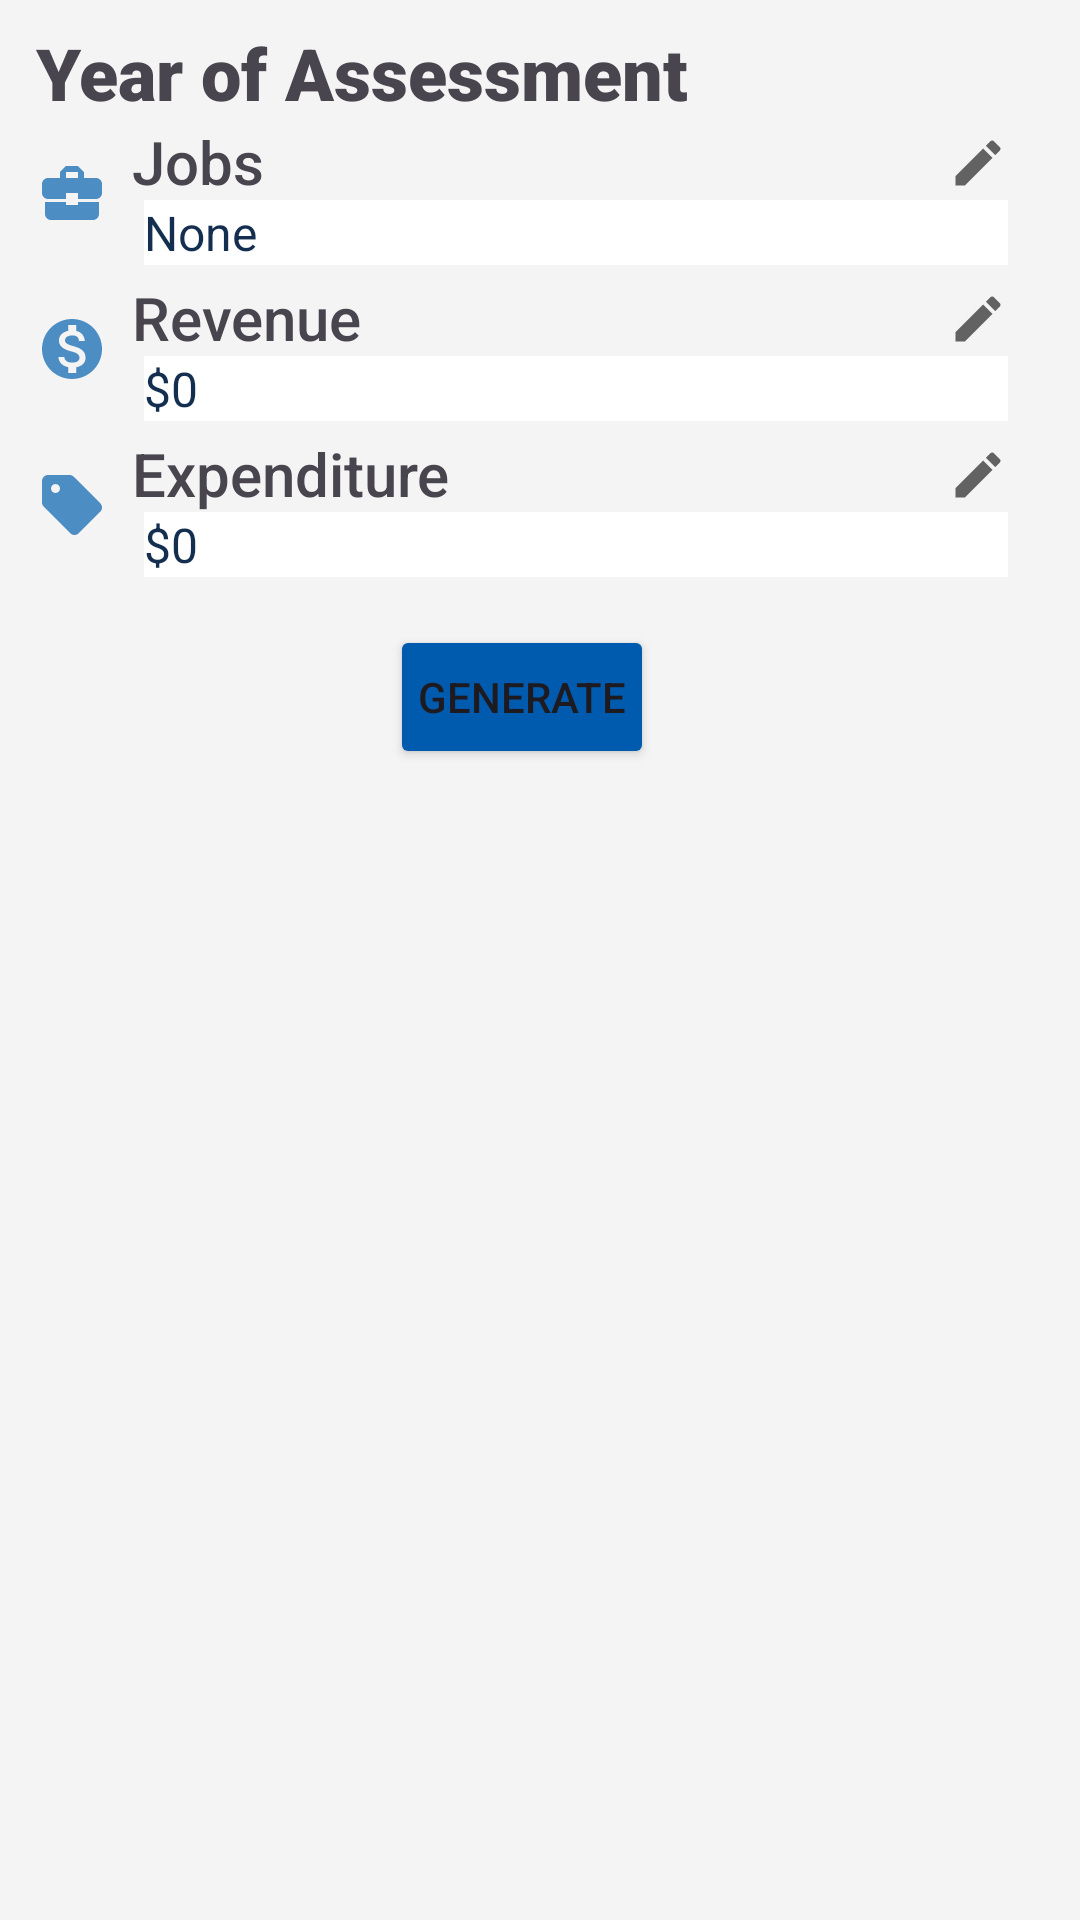

Where icons sit on this 1080w x 1920h app screen, as bbox=[x1, y1, x2, y2]:
edit: bbox=[955, 140, 1001, 186], bbox=[955, 296, 1001, 342], bbox=[955, 452, 1001, 498]
exp: bbox=[42, 475, 102, 535]
rev: bbox=[42, 319, 102, 379]
